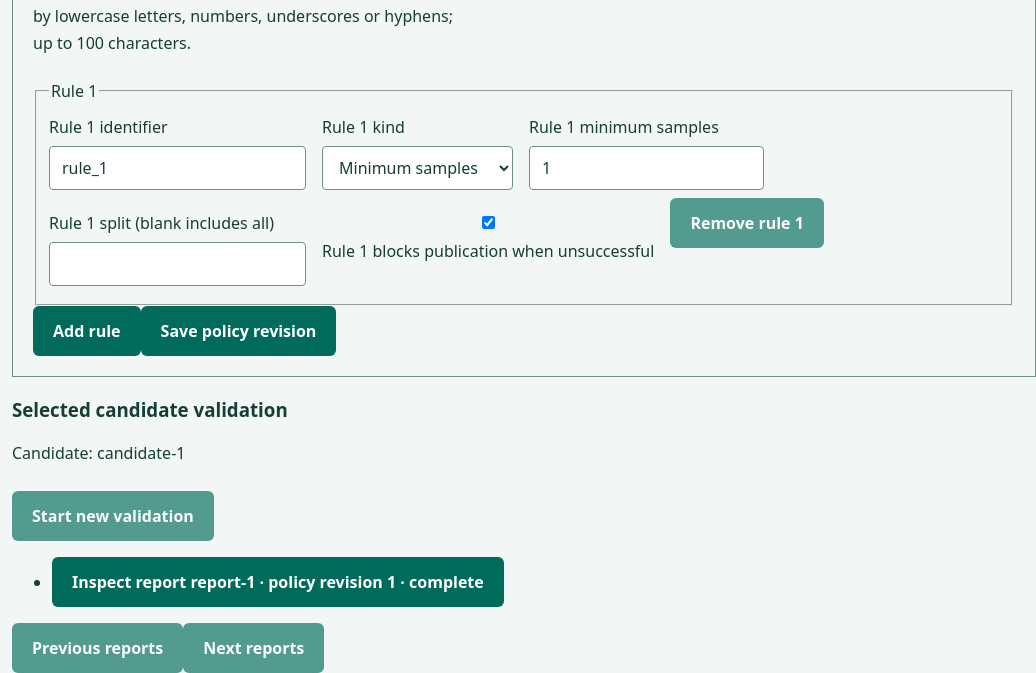
Test: candidate quality evidence › distinguishes the completed required gate verdict false
The image size is (1036, 673).
(page scrolled)
Click the button "Inspect report report-1 · policy revision 1 · complete". click: (278,582)
box: [52,557,504,607]
(page scrolled)
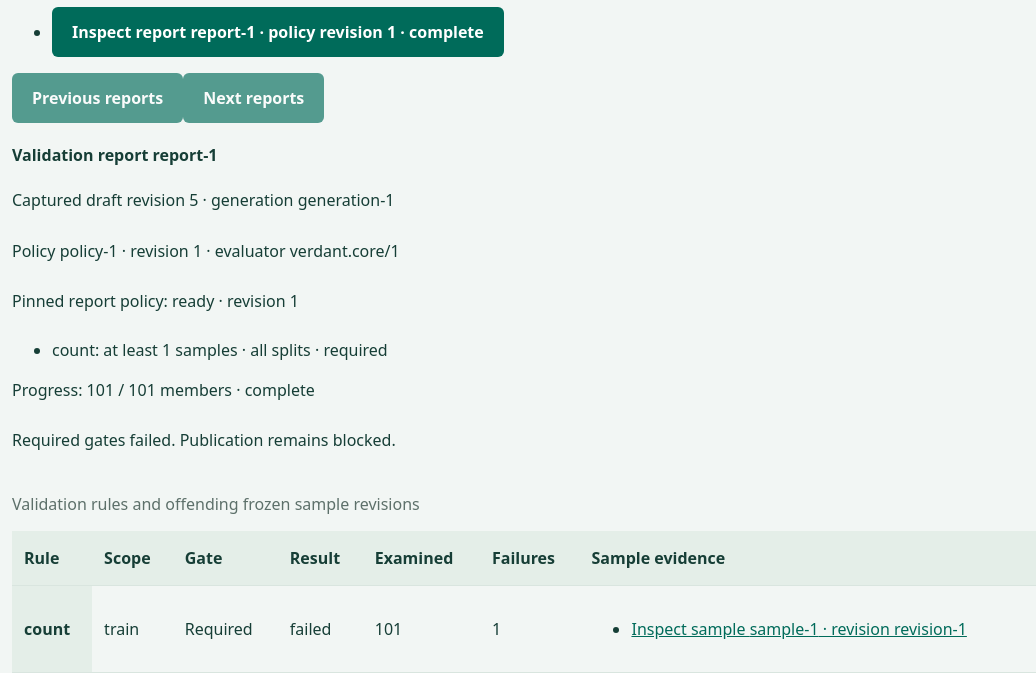
expect the text "Required gates failed. Publication remains blocked." is shown: met, box [12,427,451,453]
expect the text "Captured draft revision 5 · generation generation-1" is shown: met, box [12,187,451,214]
expect the text "generation-1" is shown: met, box [298,189,394,211]
